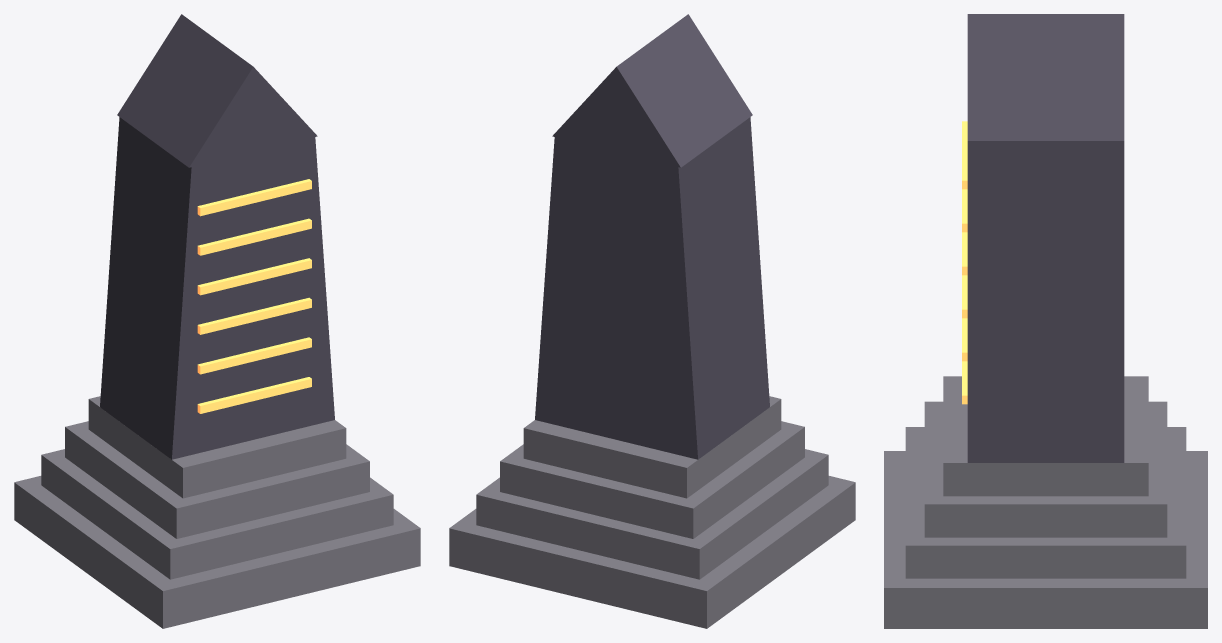
File: mythic-underworld-and-olympus-titan-obelisk-d7a4357d__21411.glb
The picture shows the model from 3 angles, left to right: view 1: azimuth 30°, elevation 25°; view 2: azimuth 150°, elevation 25°; view 3: azimuth 270°, elevation 25°; orthographic projection. The views are drawn at different scales.
Visible parts, largest first — view 1: titan-obelisk; view 2: titan-obelisk; view 3: titan-obelisk.
Part boxes in pixels (bbox=[...]): titan-obelisk: bbox=[14, 14, 420, 628]; titan-obelisk: bbox=[449, 14, 855, 628]; titan-obelisk: bbox=[884, 14, 1207, 628].
Bounding box in the file's own units: 3 × 5.59 × 3.
